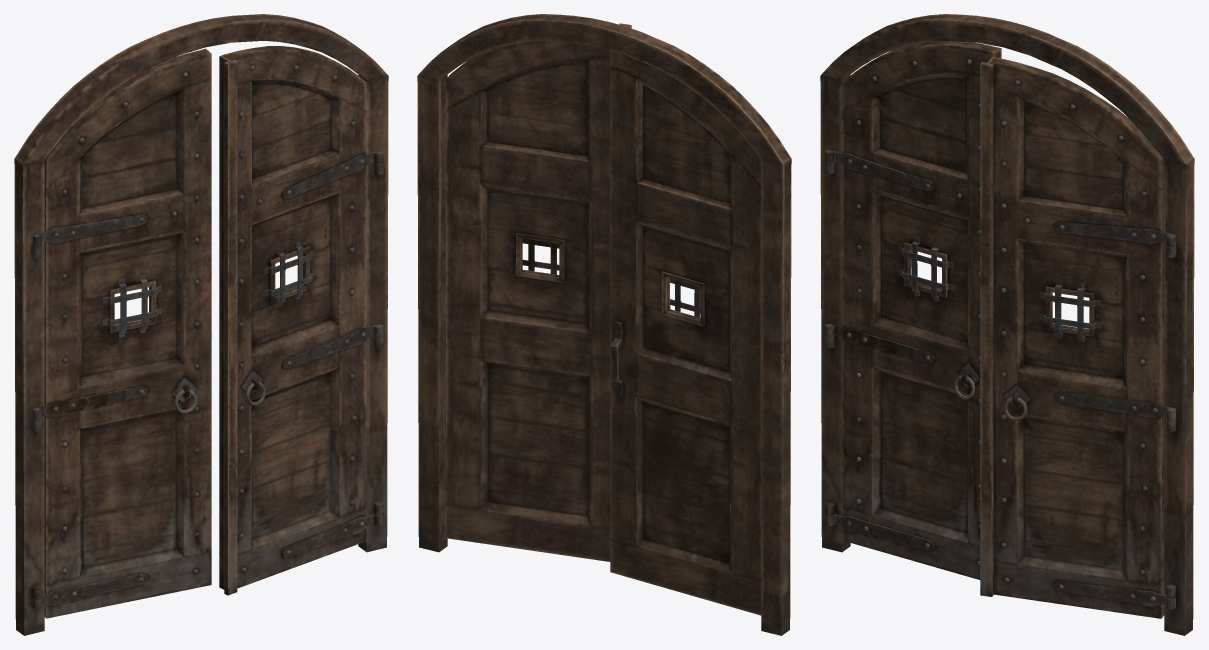
The model's file is large_castle_door.glb.
3 renders of one model, left to right at view 1: azimuth 30°, elevation 25°; view 2: azimuth 150°, elevation 25°; view 3: azimuth 330°, elevation 25°, orthographic.
Visible parts, largest first — view 1: large_castle_door_frame; view 2: large_castle_door_frame; view 3: large_castle_door_frame.
Part boxes in pixels (<box>): large_castle_door_frame: <box>14,14,388,635</box>; large_castle_door_frame: <box>417,14,791,635</box>; large_castle_door_frame: <box>820,14,1194,635</box>.
Bounding box in the file's own units: 2.01 × 2.96 × 0.2964.
Materials: 1 (1 with a texture image).
